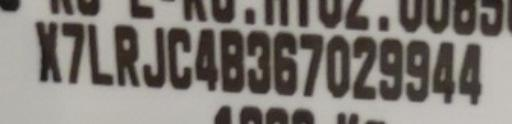letter: (28, 17, 62, 81), (298, 28, 326, 98), (348, 33, 378, 97), (378, 35, 406, 102), (456, 38, 484, 105), (244, 29, 272, 95), (270, 29, 298, 95), (87, 23, 115, 88), (112, 23, 140, 88), (140, 23, 168, 87), (166, 25, 194, 89), (219, 28, 247, 92), (324, 31, 350, 98), (193, 27, 221, 89), (404, 37, 430, 101), (430, 39, 456, 103), (62, 21, 86, 83)
